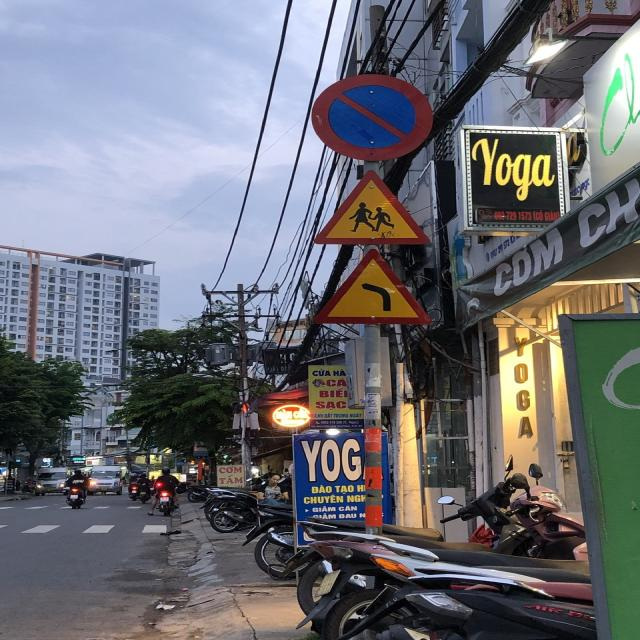Bien bao cam do xe: (299, 68, 439, 163)
Bien bao cho ngoat nguy hiem: (300, 246, 438, 332)
Bien bao tre em: (298, 165, 449, 248)
